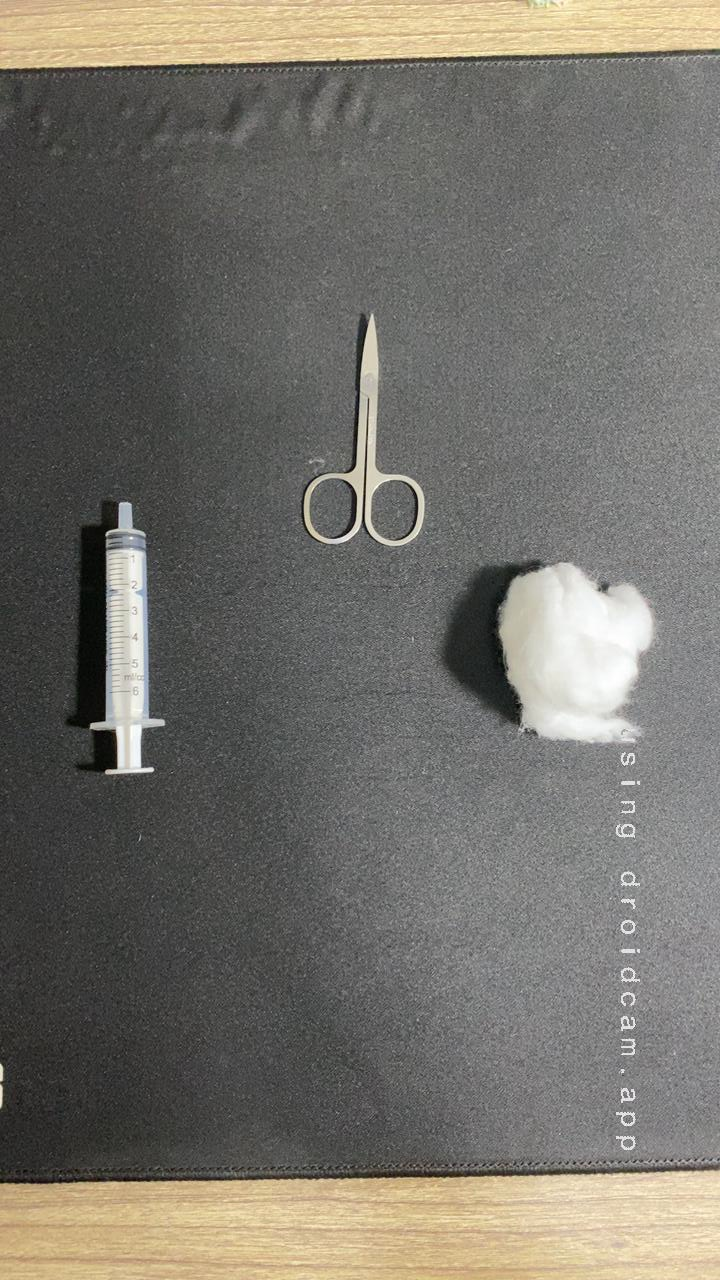cotton: (462, 531, 689, 763)
scissor: (279, 297, 443, 559)
syringe: (53, 490, 197, 787)
